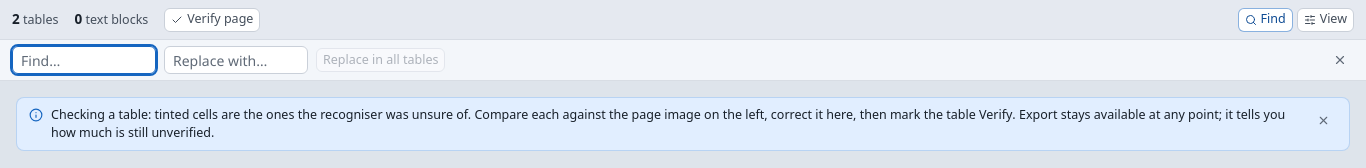
Test: Find bar match counter and stepping › steps backwards from the first match to the last
This screenshot has width=1366, height=168.
In the field with placeholder "Find…": (84, 60) top-left (12, 46), bottom-right (156, 74), type "total"
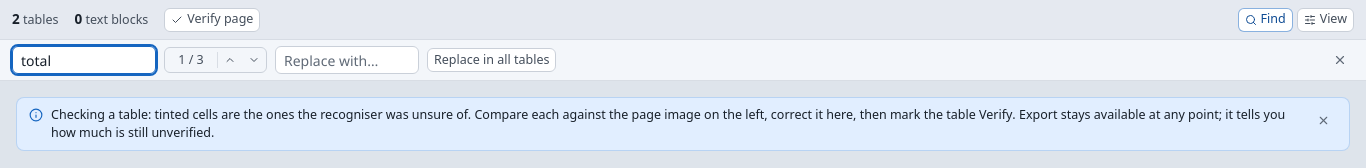
Click the button named "Previous match": (230, 60) top-left (218, 48), bottom-right (242, 72)
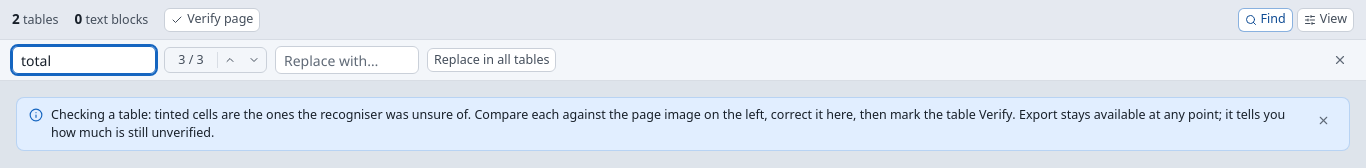
Expected: the text "3 / 3" is shown, top-left (178, 51), bottom-right (204, 68)
